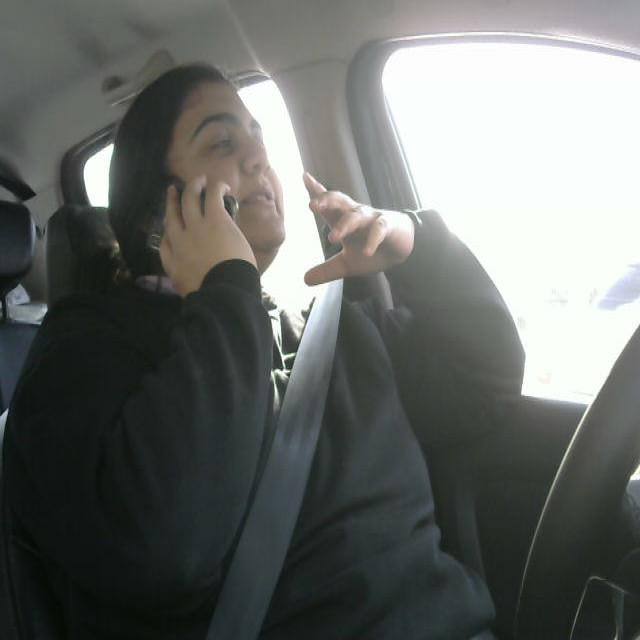mobile use: (138, 157, 238, 278)
